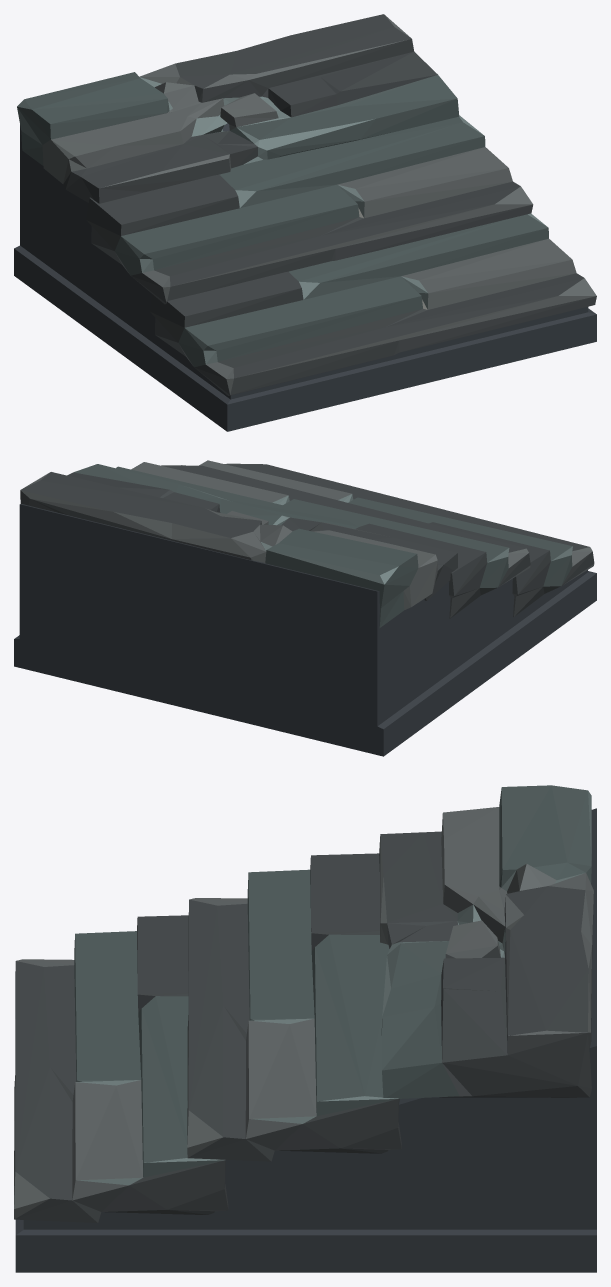
File: MDungeons_StepsSimple_Broken_02.FBX
3 views of the same model, one above another, from view 1: azimuth 30°, elevation 25°; view 2: azimuth 150°, elevation 25°; view 3: azimuth 270°, elevation 25° (orthographic). The views are drawn at different scales.
Parts seen in each view (by area): view 1: MDungeons_StepsSimple_Broken_02_LOD0; view 2: MDungeons_StepsSimple_Broken_02_LOD0; view 3: MDungeons_StepsSimple_Broken_02_LOD0.
Boxes of the visible parts, x1,y1,x2,y2 form: MDungeons_StepsSimple_Broken_02_LOD0: (14,14,596,431); MDungeons_StepsSimple_Broken_02_LOD0: (14,460,596,756); MDungeons_StepsSimple_Broken_02_LOD0: (14,785,596,1272).
Size of what is drawn, in the model's own units: 5.98 by 2.8 by 5.99.
